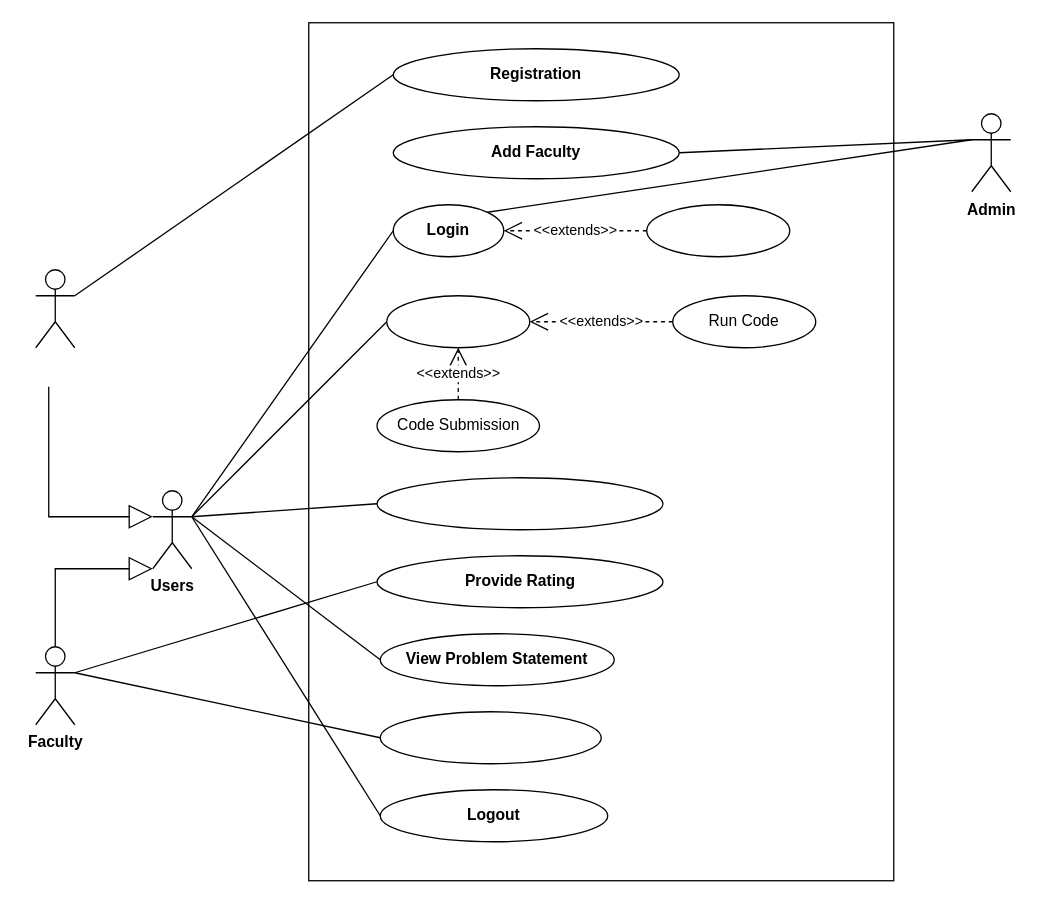
This 1037x903 diagram has some shape labels left out. Here are the shapes that lost their labels. From the top down, the centre of each, then its label:
the point at 717,230: Reset Password
the point at 54,308: Students
the point at 457,321: Edite Code
the point at 519,503: View Submission
the point at 490,737: Create Problem Statement
